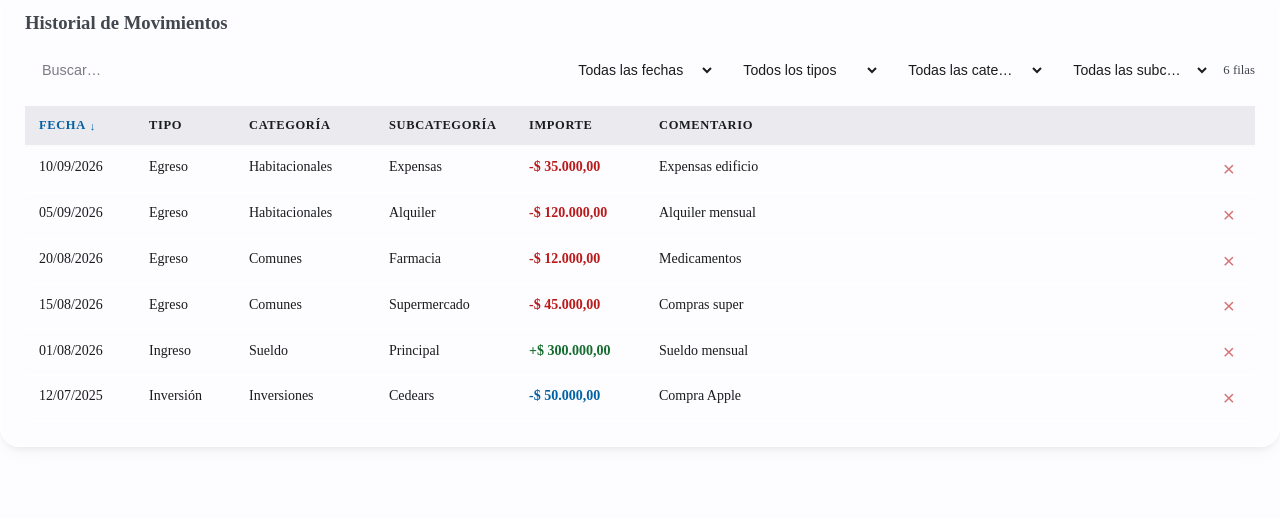
Scenario: TransactionsList Tree-Cascading & Date Range Filters › Date Range Filter & Presets › reveals Desde and Hasta date inputs when "custom" is selected
# Select "custom"
Select "📆 Personalizado (Rango)..." in the dropdown named "filtrar por fecha". click: (639, 70)
box: [561,50,716,90]
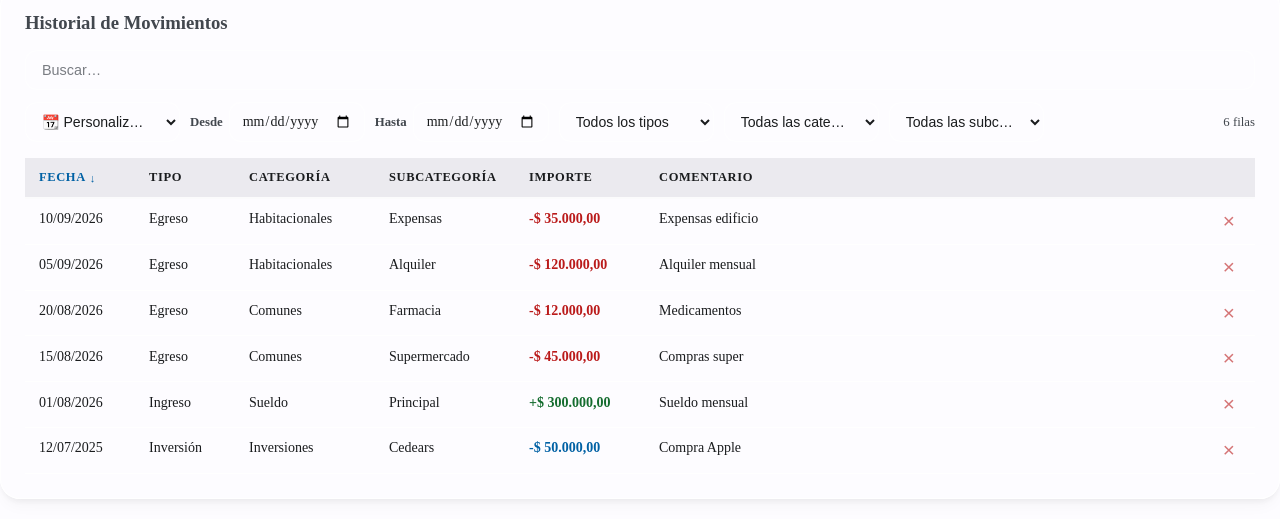
Now the date field named "fecha desde" is shown, box [229,102,365,142]
Now the date field named "fecha hasta" is shown, box [413,102,549,142]
